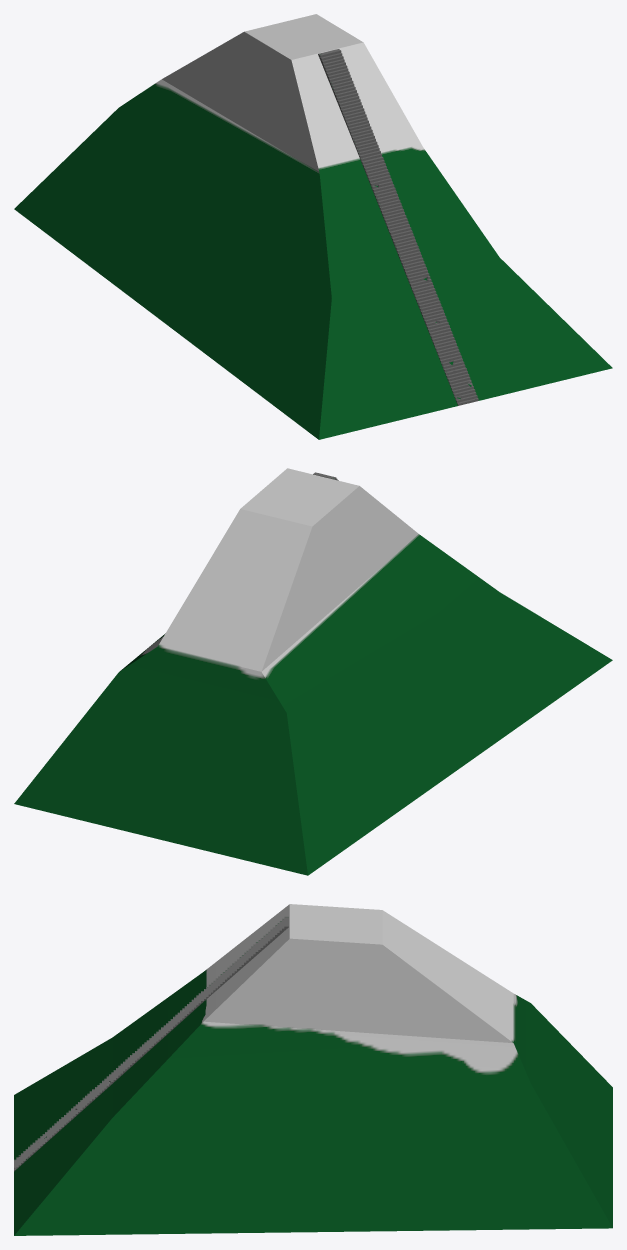
The model's file is jademountain.fbx.
3 renders of one model, top to bottom at view 1: azimuth 30°, elevation 25°; view 2: azimuth 150°, elevation 25°; view 3: azimuth 270°, elevation 25°, orthographic.
Visible parts, largest first — view 1: pCube52; view 2: pCube52; view 3: pCube52.
Part boxes in pixels (x1,y1,x2,y2): pCube52: [14, 14, 612, 439]; pCube52: [14, 468, 612, 875]; pCube52: [14, 904, 612, 1235].
Size of the model in its own units: 70.89 by 57.5 by 127.
